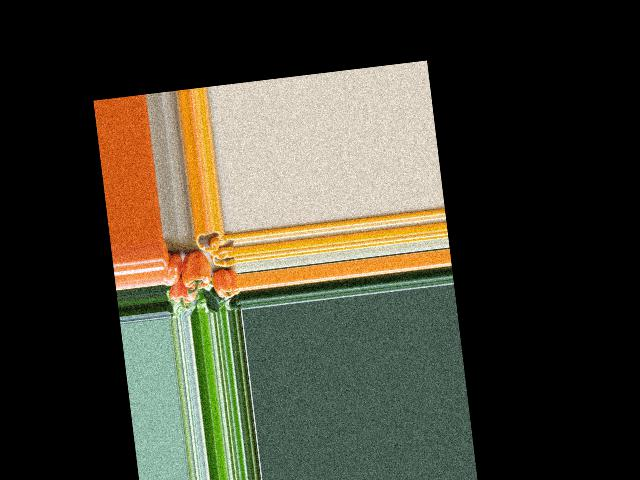bell_pepper: (160, 250, 184, 287)
